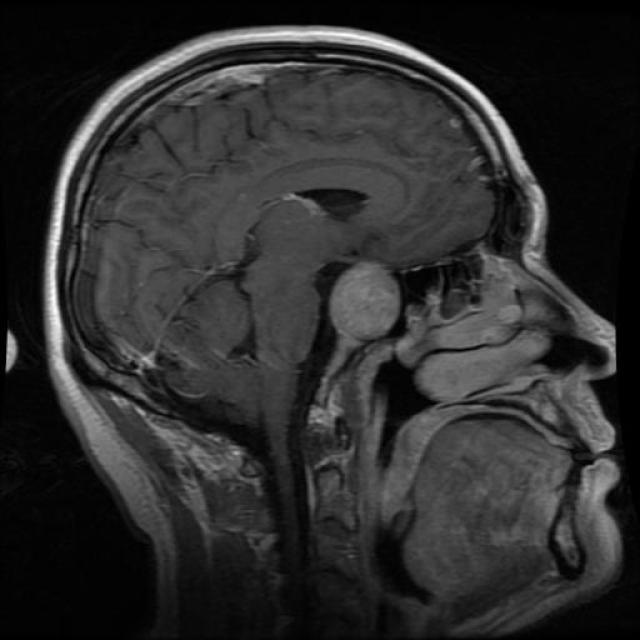pituitary: (322, 254, 412, 354)
